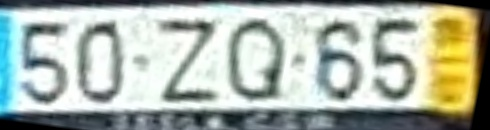0: (72, 17, 129, 110)
5: (17, 18, 74, 111), (367, 18, 421, 103)
6: (310, 18, 367, 105)
Q: (222, 14, 290, 106)
Z: (150, 15, 223, 110)
